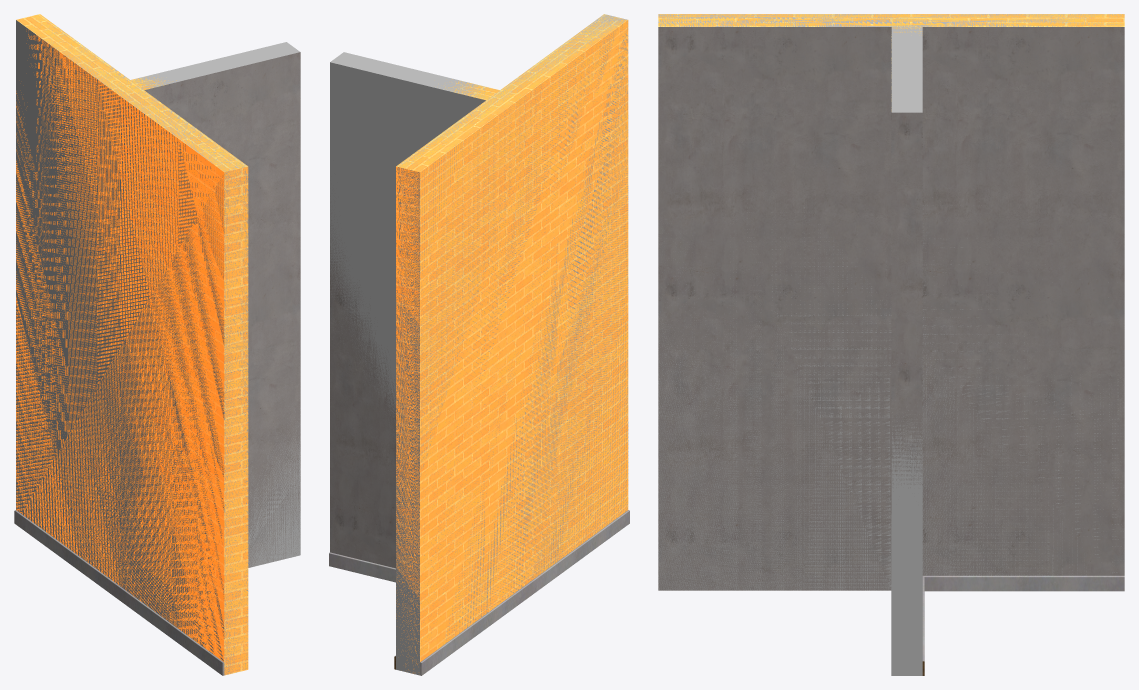
The model's file is SM_Wall_T_Intersection_3x3_5_01b.fbx.
3 renders of one model, left to right at view 1: azimuth 30°, elevation 25°; view 2: azimuth 150°, elevation 25°; view 3: azimuth 270°, elevation 25°, orthographic. The views are drawn at different scales.
Parts seen in each view (by area): view 1: SM_Wall_T_Intersection_3x3_5_01b, SM_Wall_T_Intersection_3x3_5_01b_ConvexHulls; view 2: SM_Wall_T_Intersection_3x3_5_01b, SM_Wall_T_Intersection_3x3_5_01b_ConvexHulls; view 3: SM_Wall_T_Intersection_3x3_5_01b, SM_Wall_T_Intersection_3x3_5_01b_ConvexHulls.
Boxes of the visible parts, <box> form: SM_Wall_T_Intersection_3x3_5_01b: <box>14,14,300,675</box>; SM_Wall_T_Intersection_3x3_5_01b_ConvexHulls: <box>16,20,300,674</box>; SM_Wall_T_Intersection_3x3_5_01b: <box>329,14,629,675</box>; SM_Wall_T_Intersection_3x3_5_01b_ConvexHulls: <box>330,14,628,675</box>; SM_Wall_T_Intersection_3x3_5_01b: <box>658,14,1124,675</box>; SM_Wall_T_Intersection_3x3_5_01b_ConvexHulls: <box>658,14,1124,675</box>.
Bounding box in the file's own units: 151 × 300 × 400.
